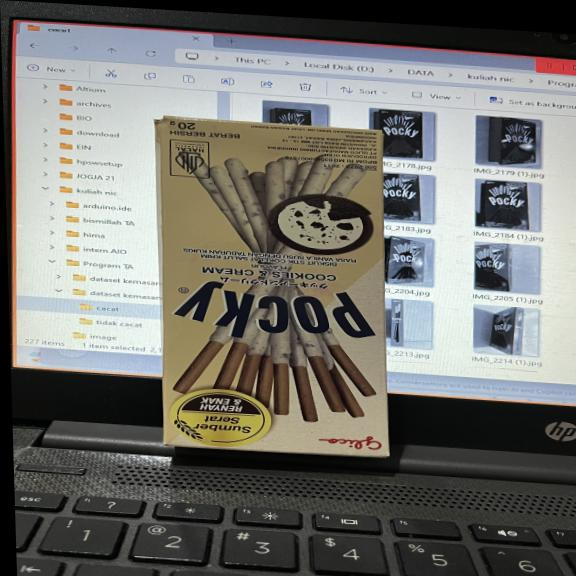Kertas: (153, 119, 386, 458)
